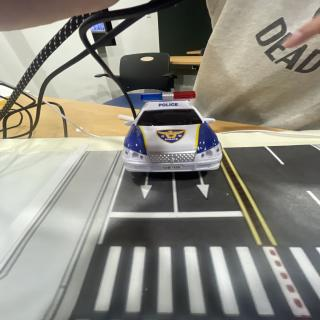Police_car: (122, 91, 222, 172)
